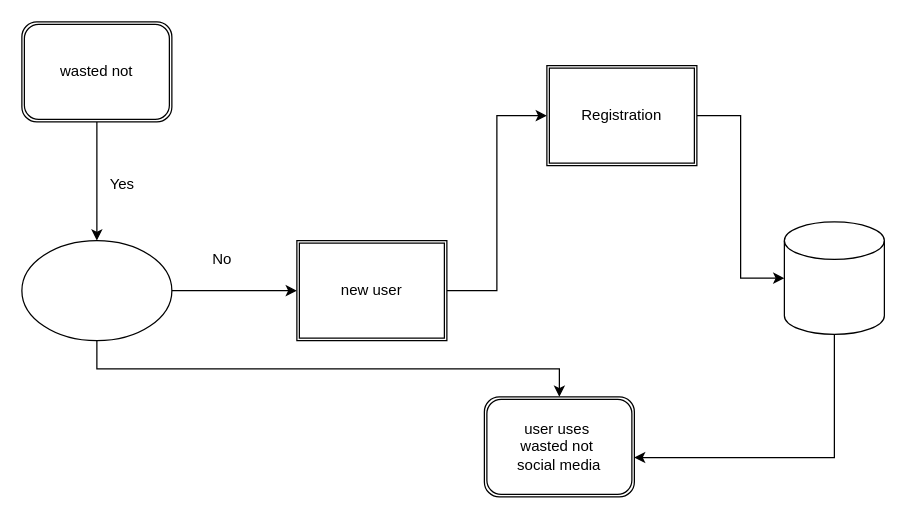
Image size: 906x519. Some labels were removed from this diagram. The shapes that lost their labels are listed below. From the top down, each one's box as (x1, y1, x2, y2) in pixels, then its label:
(21, 239, 172, 341): Login
(783, 221, 884, 334): user database
